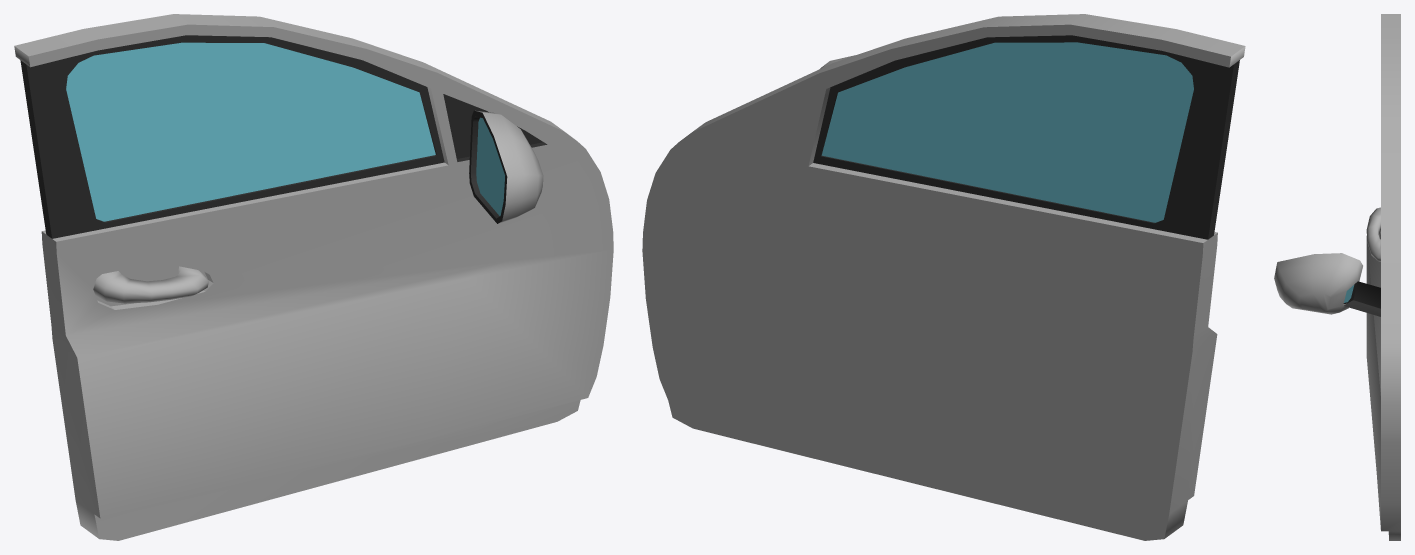
File: CarDoor.glb
3 views of the same model, side by side, from view 1: azimuth 30°, elevation 25°; view 2: azimuth 150°, elevation 25°; view 3: azimuth 270°, elevation 25° (orthographic). The views are drawn at different scales.
Visible parts, largest first — view 1: CarDoor; view 2: CarDoor; view 3: CarDoor.
Part boxes in pixels (box(x1,y1,x2,y2)): CarDoor: box(14, 14, 613, 540); CarDoor: box(642, 14, 1245, 540); CarDoor: box(1274, 14, 1400, 540).
Bounding box in the file's own units: 1.52 × 1.25 × 0.415.
